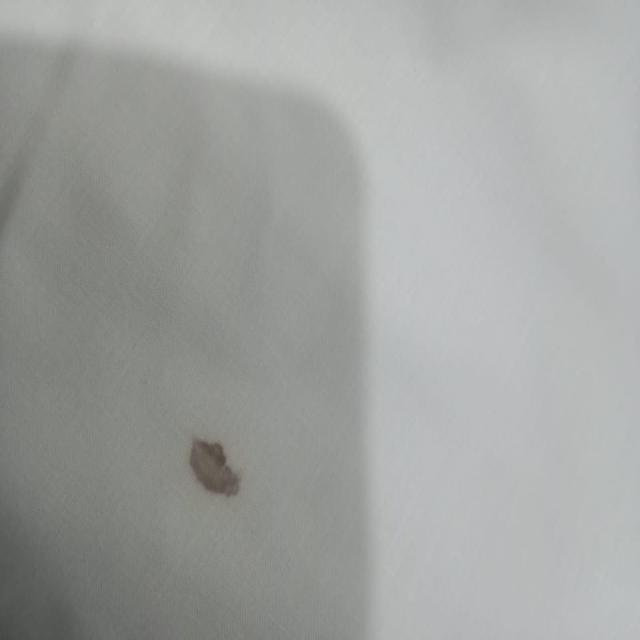stain: (180, 427, 256, 507)
